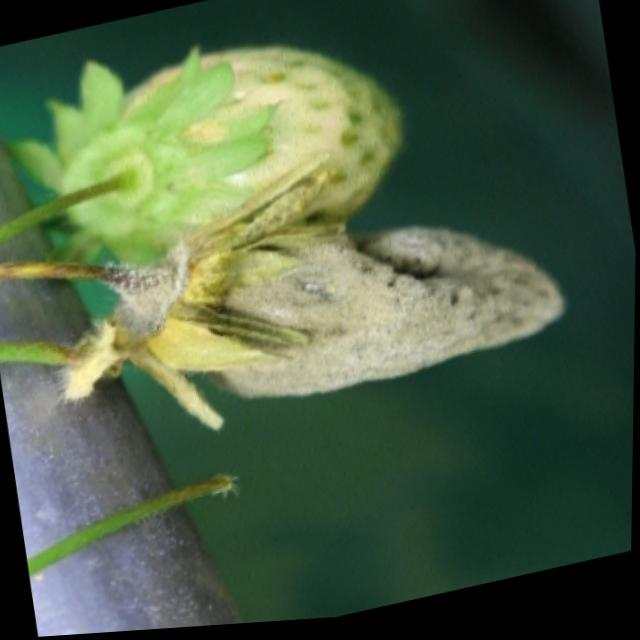Gray Mold: (104, 172, 572, 436)
